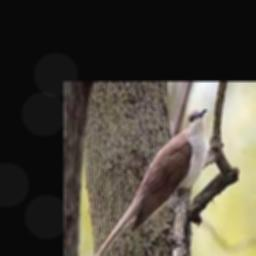Cuckoo: (82, 108, 208, 256)
